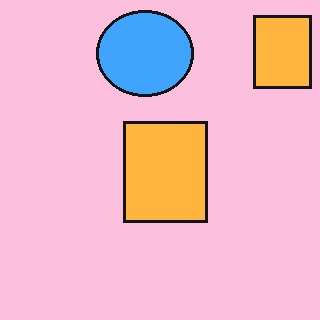circle_target: (97, 10, 193, 97)
square_target: (123, 122, 208, 223), (254, 15, 312, 89)
